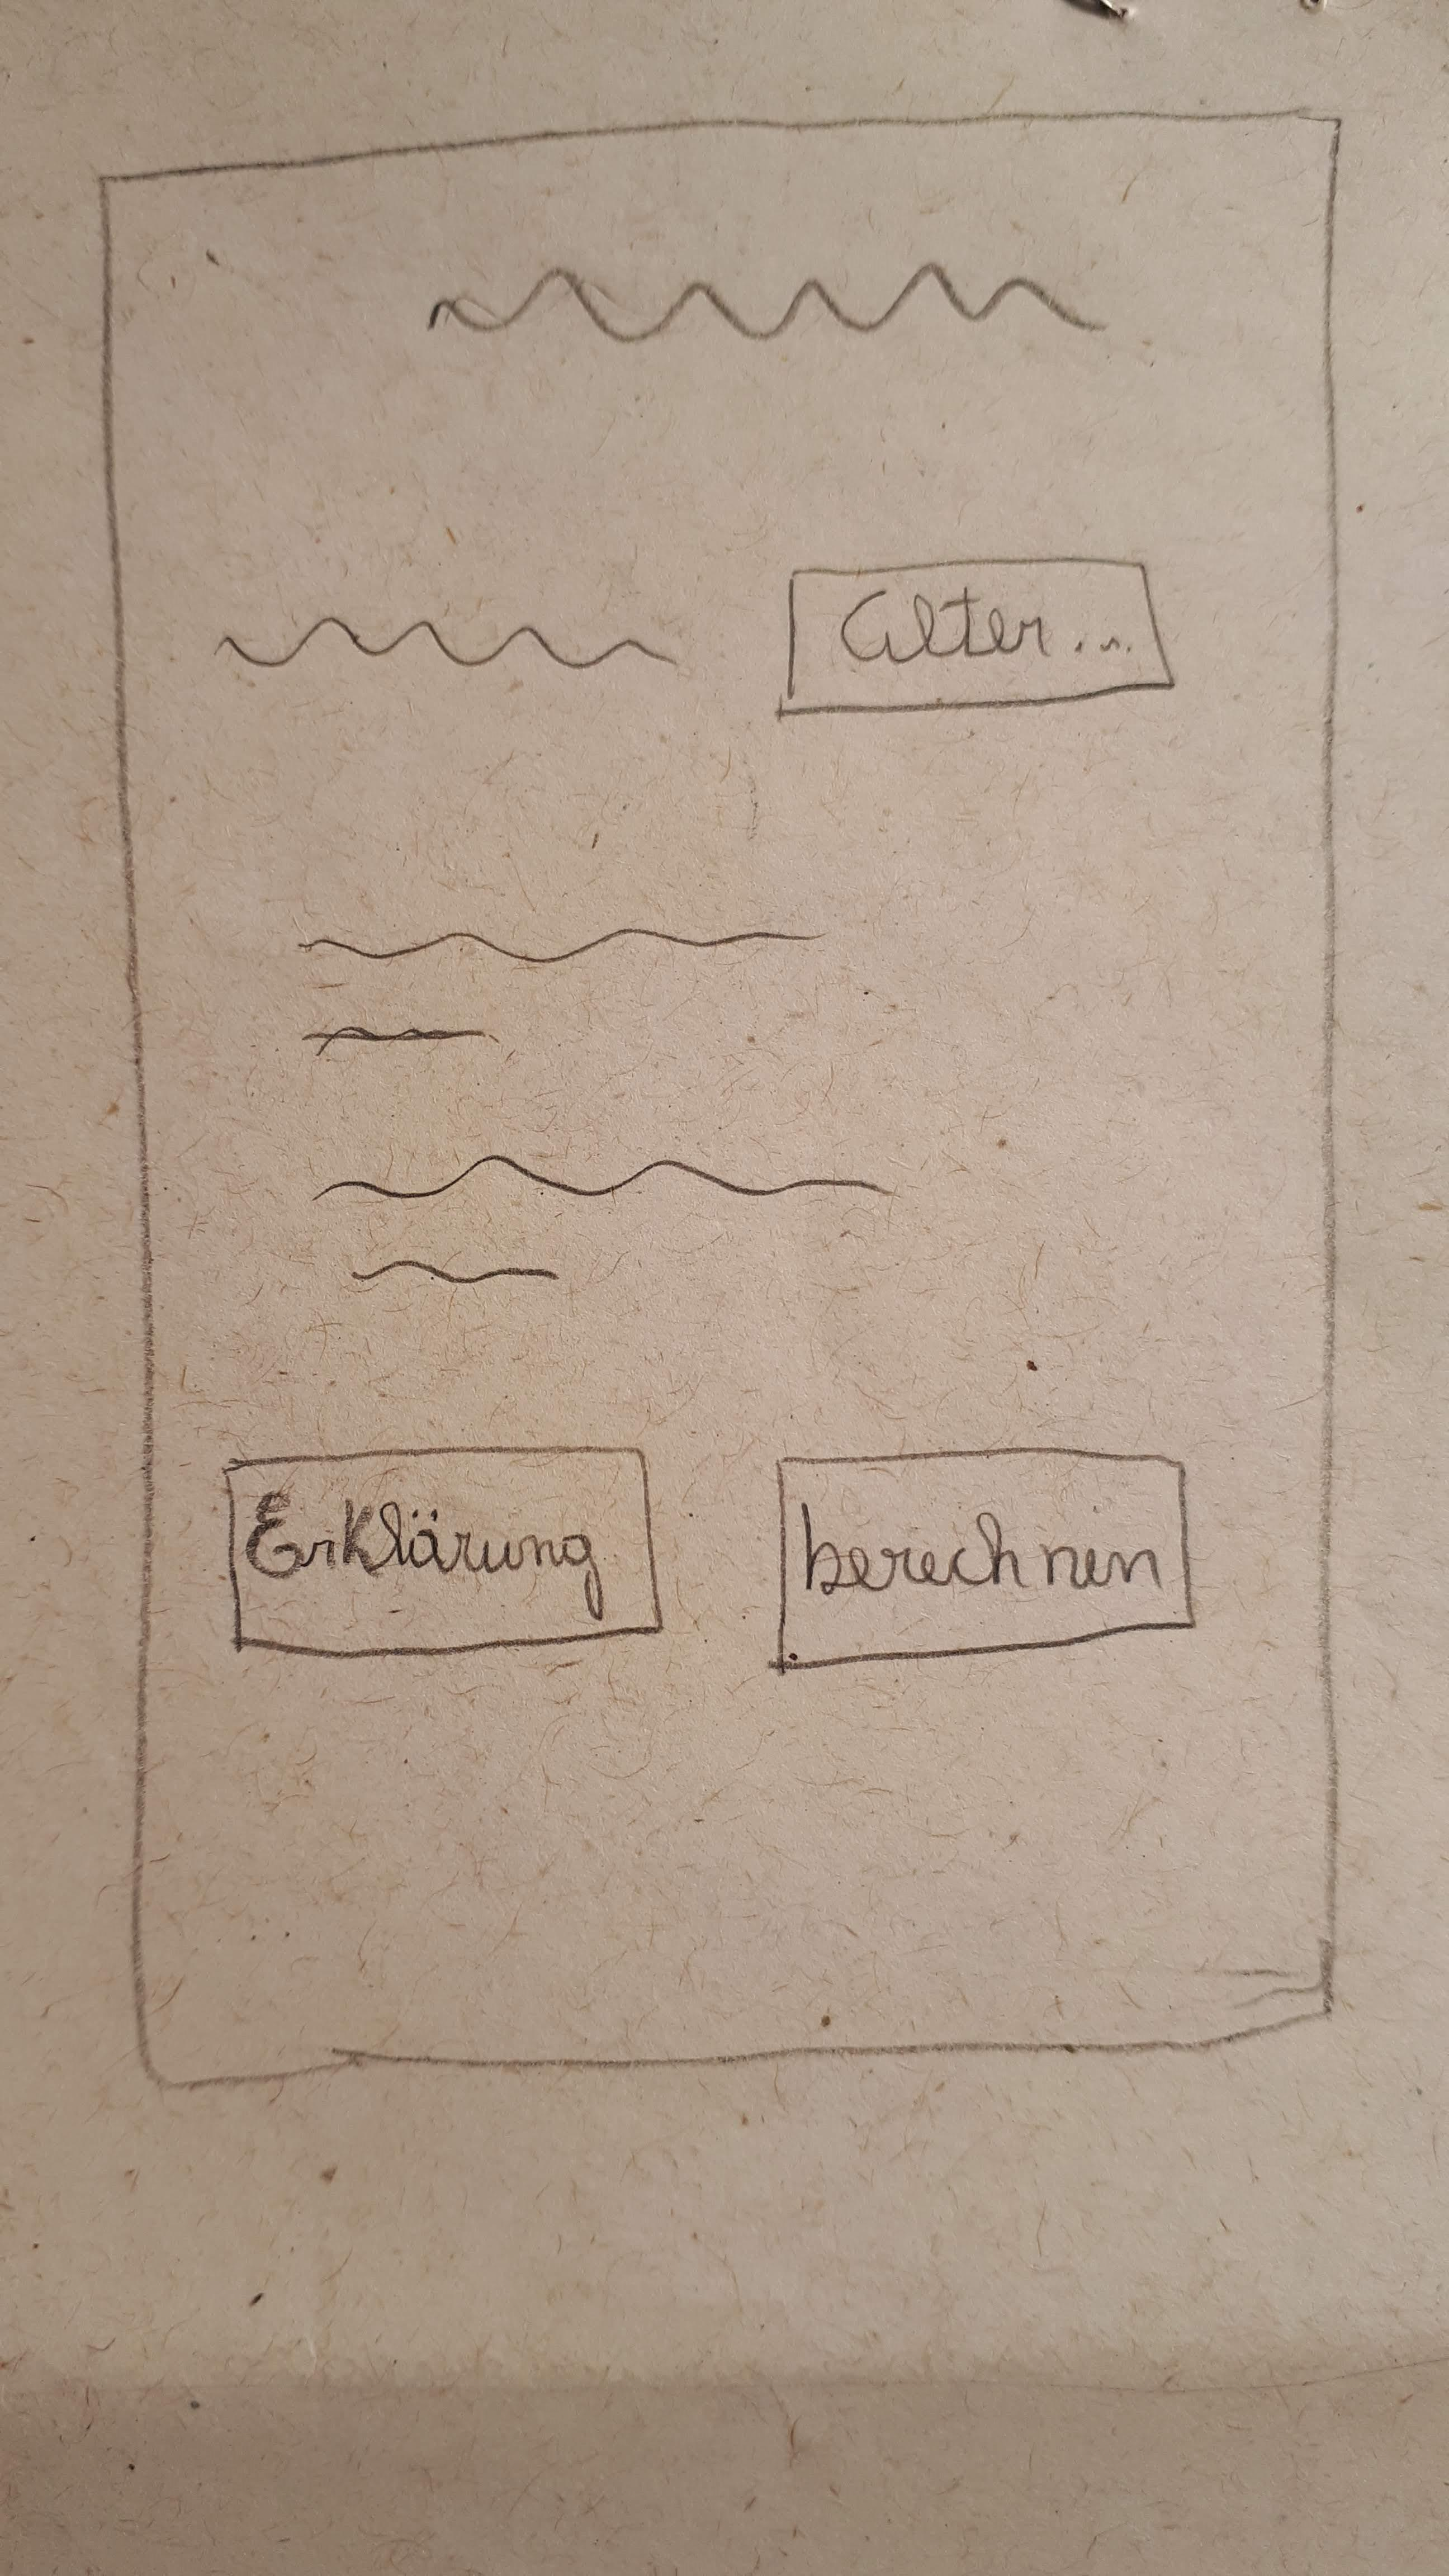Button: (773, 1451, 1194, 1670), (226, 1449, 662, 1656), (777, 556, 1177, 720)
Label: (313, 1155, 897, 1288), (301, 927, 821, 1056), (425, 262, 1108, 341), (212, 612, 676, 674)
Screen: (101, 111, 1341, 2086)
